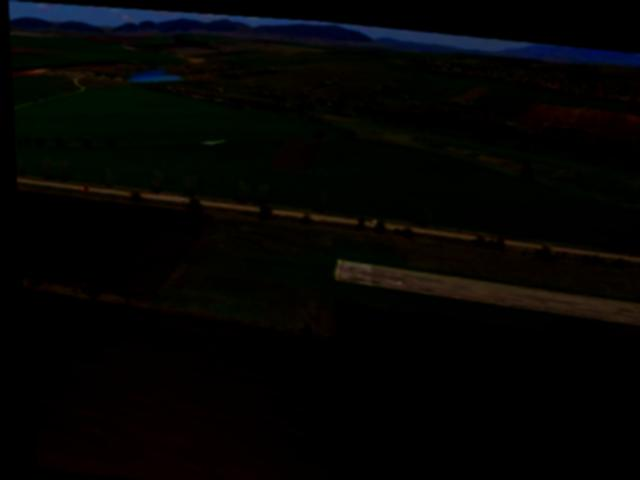uav: (194, 127, 229, 152)
